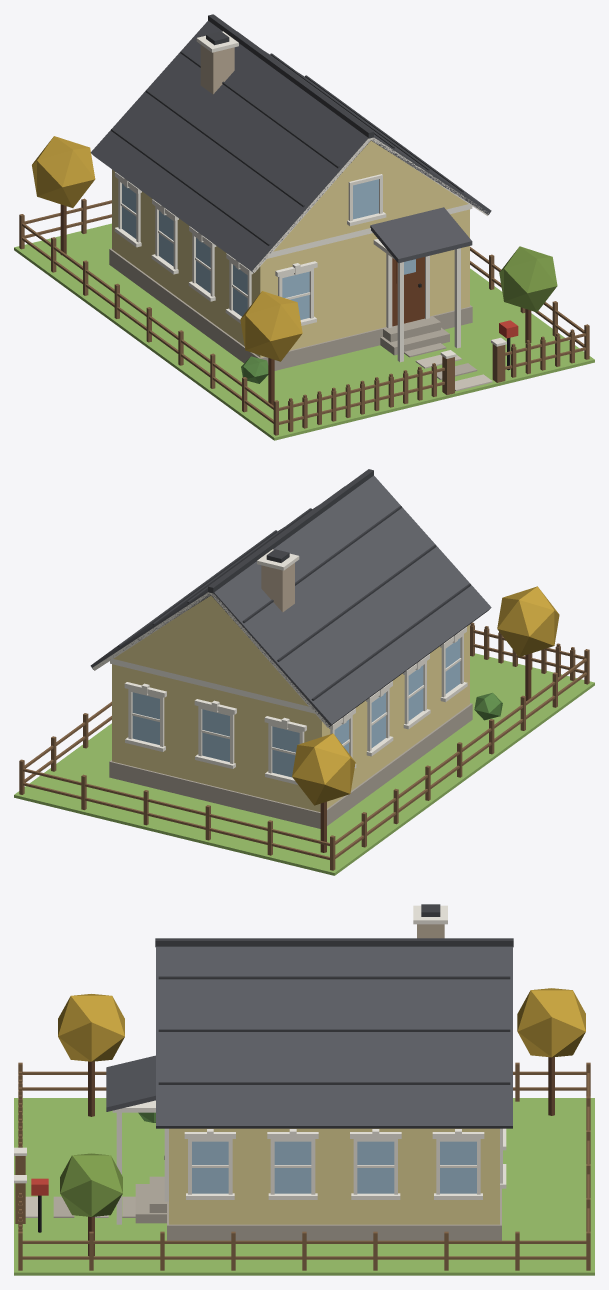
Rendered from MustakilEv_avrupa_2_2_Hafif.fbx.
3 views of the same model, one above another, from view 1: azimuth 30°, elevation 25°; view 2: azimuth 150°, elevation 25°; view 3: azimuth 270°, elevation 25° (orthographic). The views are drawn at different scales.
Visible parts, largest first — view 1: MustakilEv_avrupa_2_2_Hafif; view 2: MustakilEv_avrupa_2_2_Hafif; view 3: MustakilEv_avrupa_2_2_Hafif.
Boxes of the visible parts, x1,y1,x2,y2 form: MustakilEv_avrupa_2_2_Hafif: (14,14,594,440); MustakilEv_avrupa_2_2_Hafif: (14,469,594,875); MustakilEv_avrupa_2_2_Hafif: (14,904,594,1275).
Bounding box in the file's own units: 9.56 × 6.73 × 13.44.
